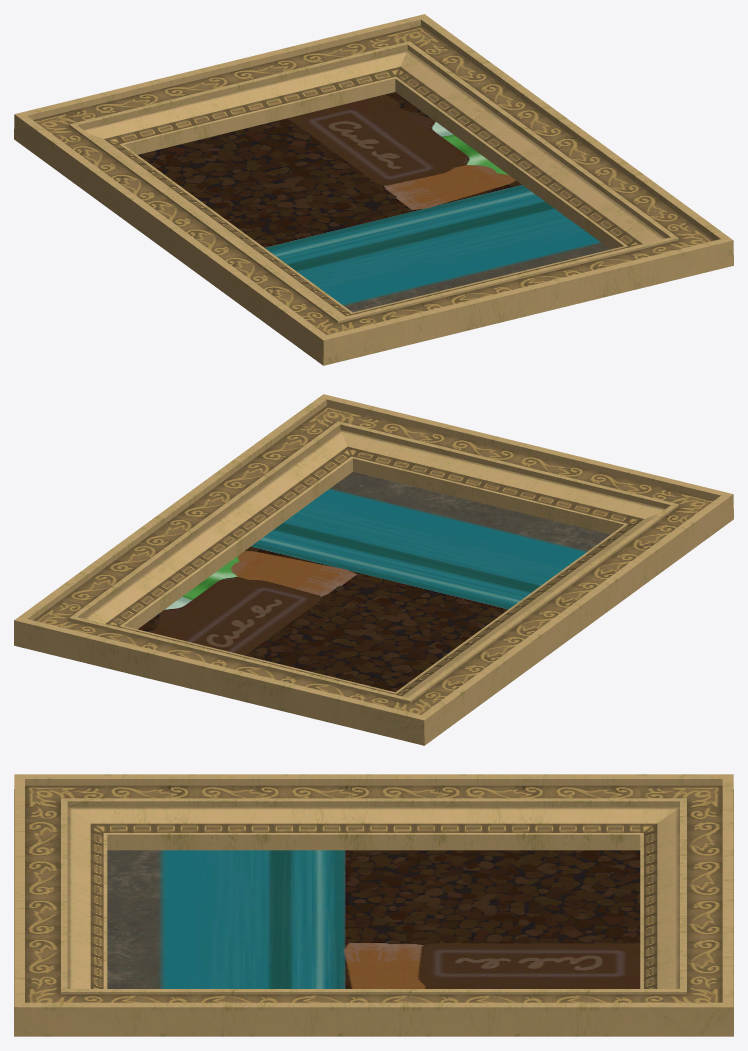
Rendered from art15.fbx.
The picture shows the model from 3 angles, top to bottom: view 1: azimuth 30°, elevation 25°; view 2: azimuth 150°, elevation 25°; view 3: azimuth 270°, elevation 25°; orthographic projection. The views are drawn at different scales.
Visible parts, largest first — view 1: FrameGold0_low1__mFrameGold0, MonaLisa__mBody; view 2: FrameGold0_low1__mFrameGold0, MonaLisa__mBody; view 3: FrameGold0_low1__mFrameGold0, MonaLisa__mBody.
Boxes of the visible parts, x1,y1,x2,y2 form: FrameGold0_low1__mFrameGold0: (14, 14, 733, 365); MonaLisa__mBody: (138, 92, 610, 312); FrameGold0_low1__mFrameGold0: (14, 394, 733, 745); MonaLisa__mBody: (138, 472, 610, 692); FrameGold0_low1__mFrameGold0: (14, 774, 733, 1036); MonaLisa__mBody: (107, 850, 640, 988).
Size of the model in its own units: 158 by 17.54 by 206.
